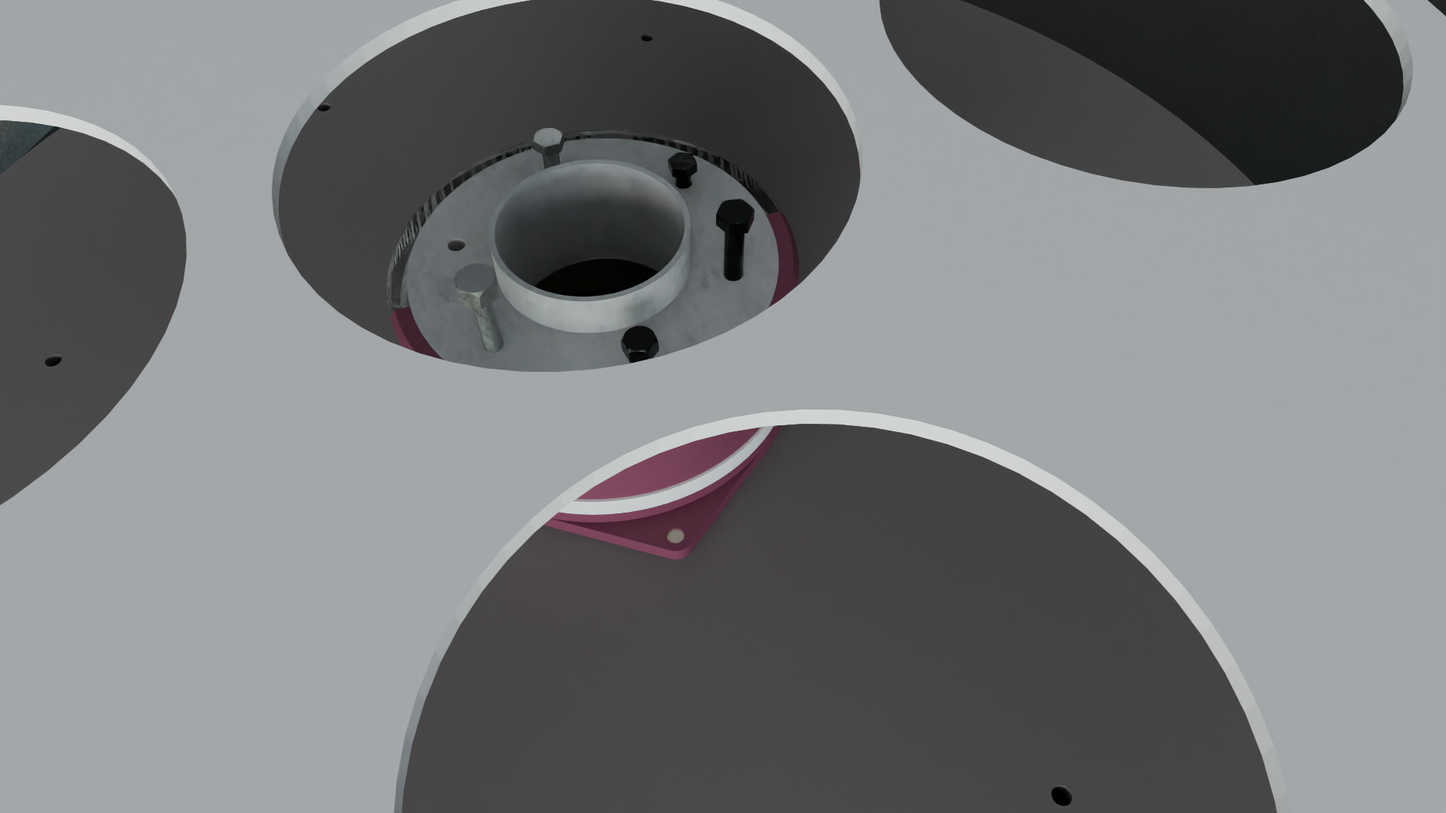bolt: (454, 263, 497, 297), (621, 326, 658, 354), (716, 199, 755, 225), (532, 127, 563, 148), (668, 152, 697, 171)
